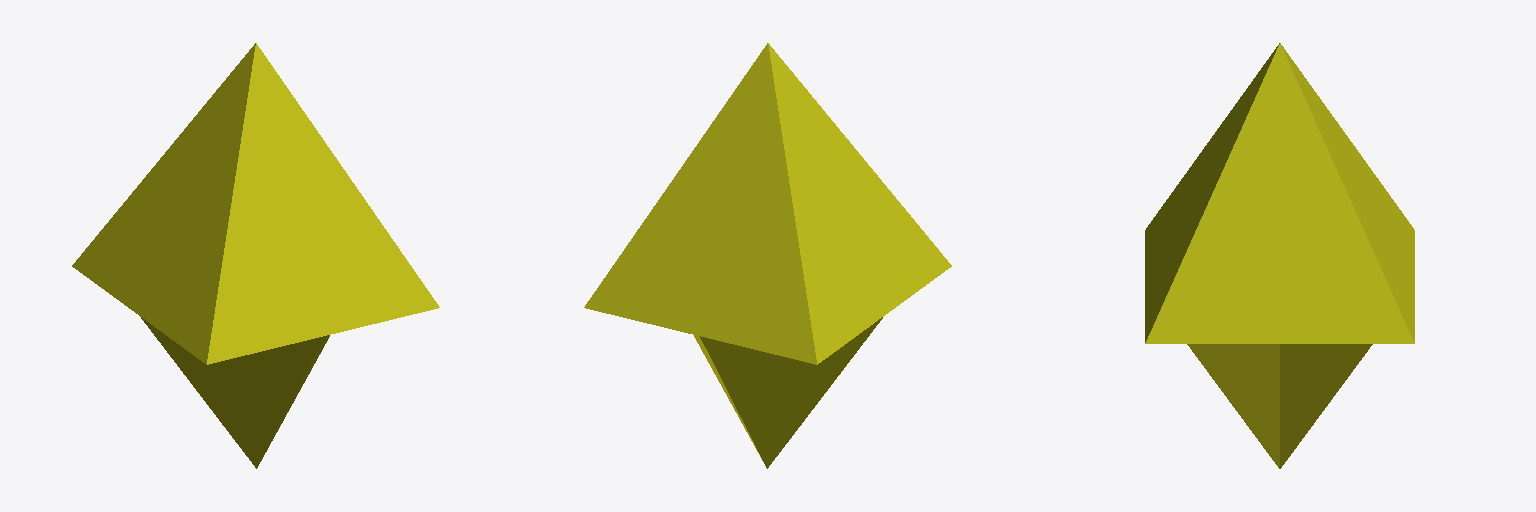
3 renders of one model, left to right at view 1: azimuth 30°, elevation 25°; view 2: azimuth 150°, elevation 25°; view 3: azimuth 270°, elevation 25°, orthographic.
Visible parts, largest first — view 1: Cube; view 2: Cube; view 3: Cube.
Boxes of the visible parts, <box> form: Cube: <box>72,43,439,468</box>; Cube: <box>584,43,951,468</box>; Cube: <box>1145,43,1414,468</box>.
Size of the model in its own units: 5.59 by 9.77 by 5.59.
1 materials, 1 textured.